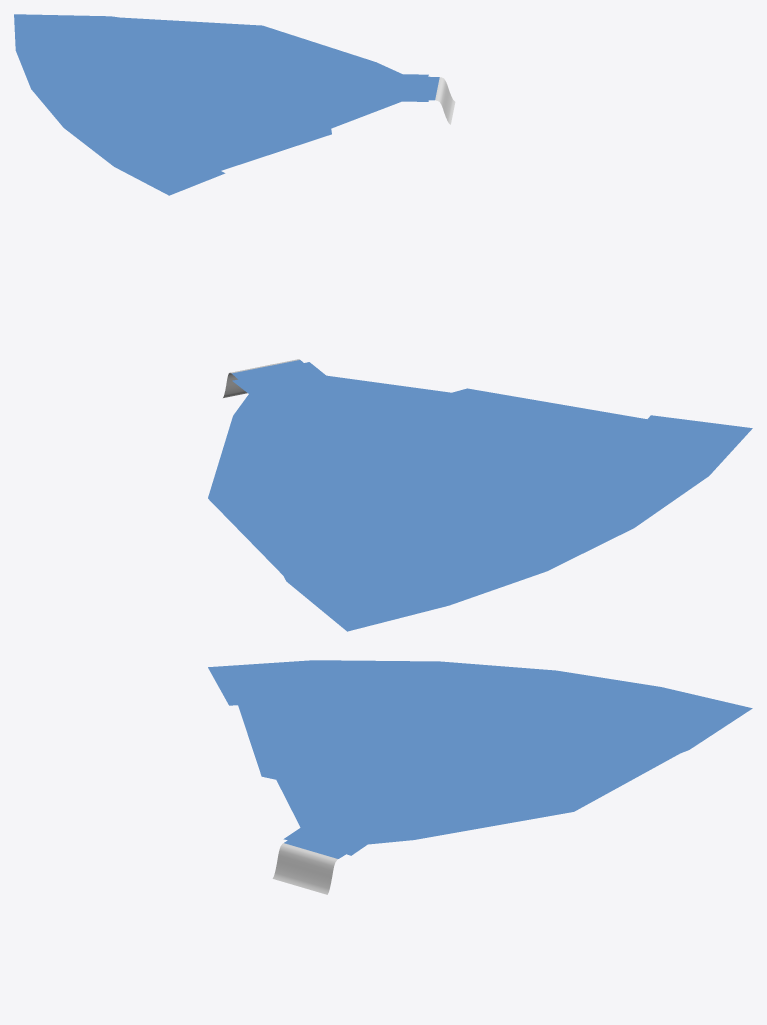
File: Water_All.glb
The picture shows the model from 3 angles, top to bottom: view 1: azimuth 30°, elevation 25°; view 2: azimuth 150°, elevation 25°; view 3: azimuth 270°, elevation 25°; orthographic projection. The views are drawn at different scales.
Parts seen in each view (by area): view 1: Water, Water.001; view 2: Water; view 3: Water, Water.001.
Part boxes in pixels (x1,y1,x2,y2): Water: [14, 14, 439, 195]; Water.001: [435, 77, 455, 124]; Water: [208, 360, 752, 631]; Water: [208, 660, 752, 858]; Water.001: [272, 843, 337, 894].
Bounding box in the file's own units: 571 × 24.17 × 555.
